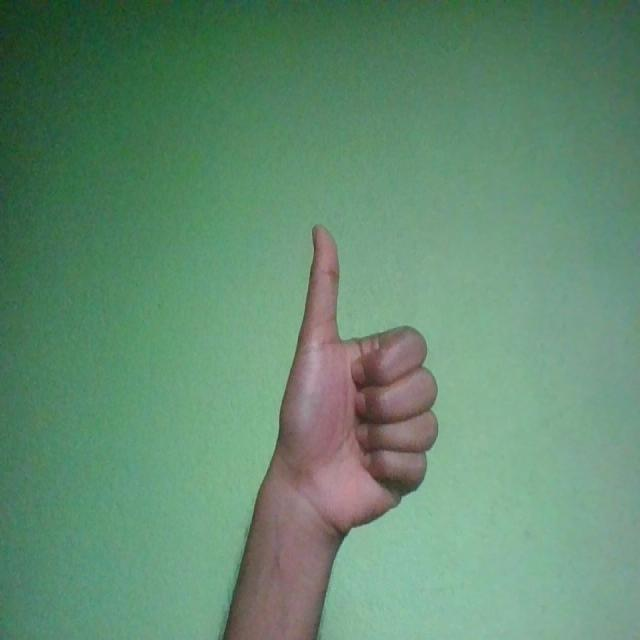Good Job: (276, 221, 439, 546)
